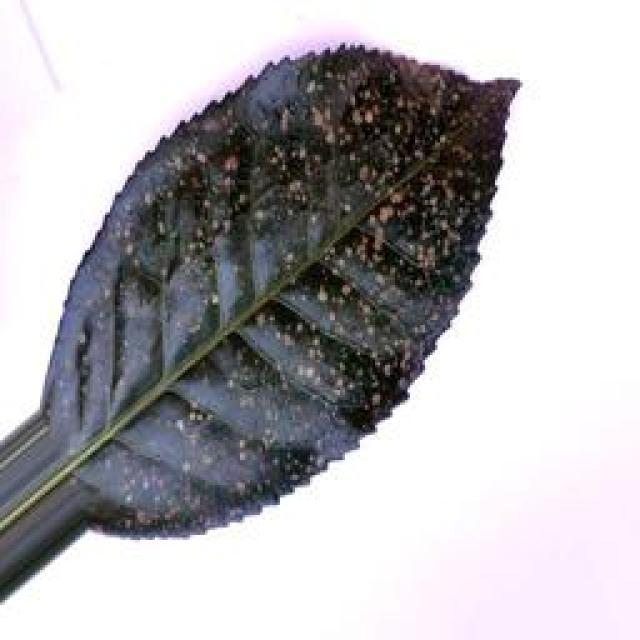Algal Leaf Spot: (47, 35, 525, 547)
